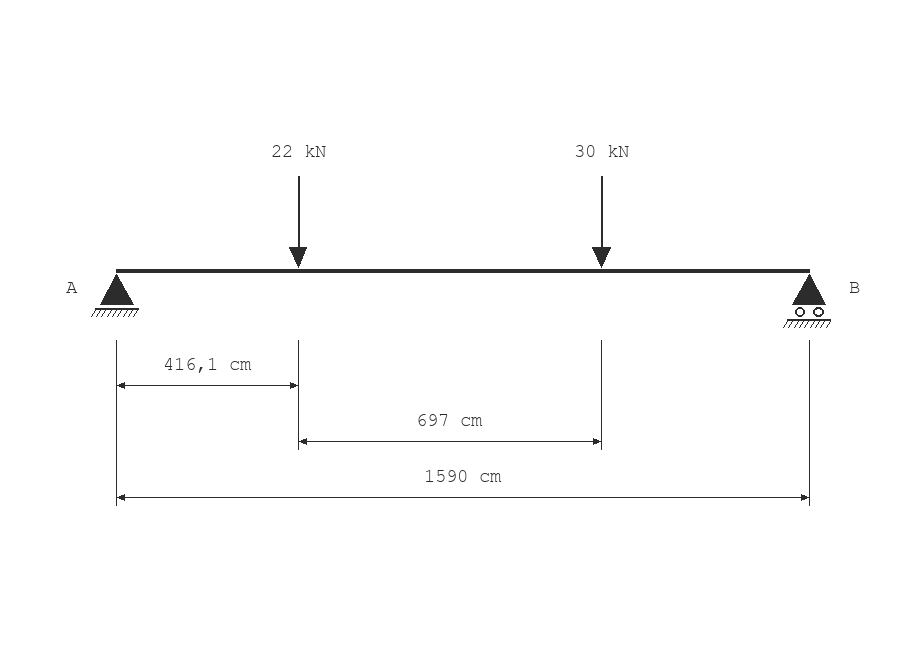pin_support: (91, 274, 139, 317)
point_load: (592, 176, 611, 268), (289, 176, 307, 268)
roller_support: (783, 274, 831, 328)
